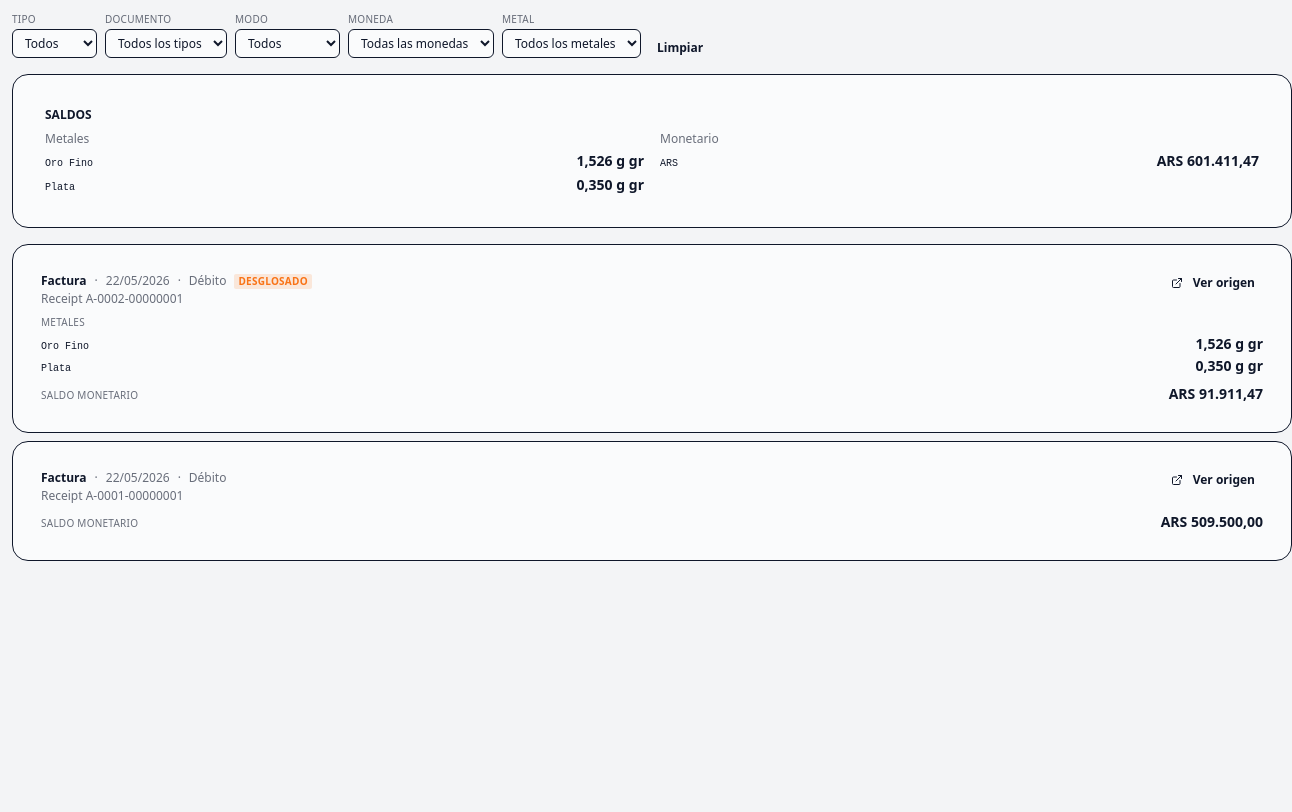
Test case: EntityBalanceMovementsView — filtros (Fase 4.4) › filtro por metal=oro-fino oculta movimientos sin ese padre
Select "Oro Fino" in the dropdown with test id "filter-metal" at x=572, y=44, box [502,29,641,58]
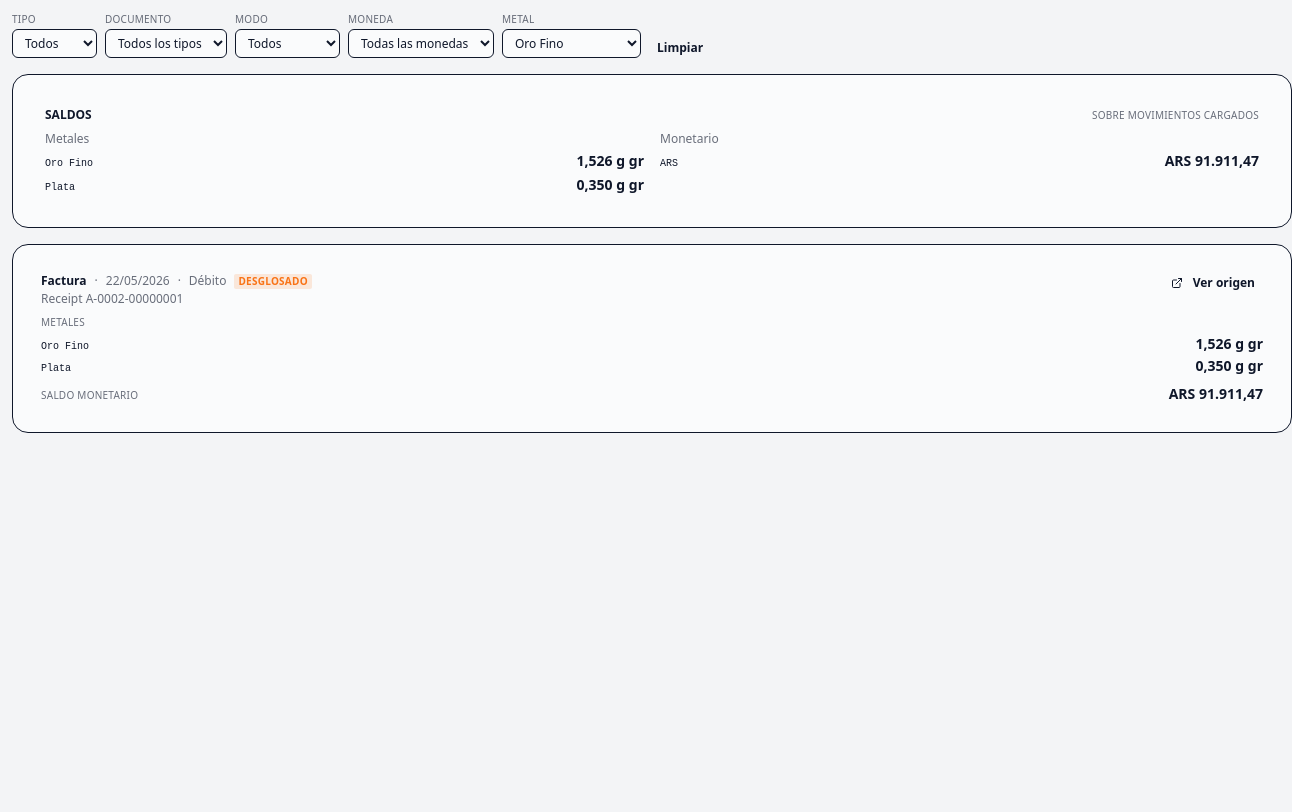
Expected: the element with test id "movement-card-b-oro" is shown, [12,244,1291,433]
Result: the element with test id "movement-card-u-monetary" is gone
